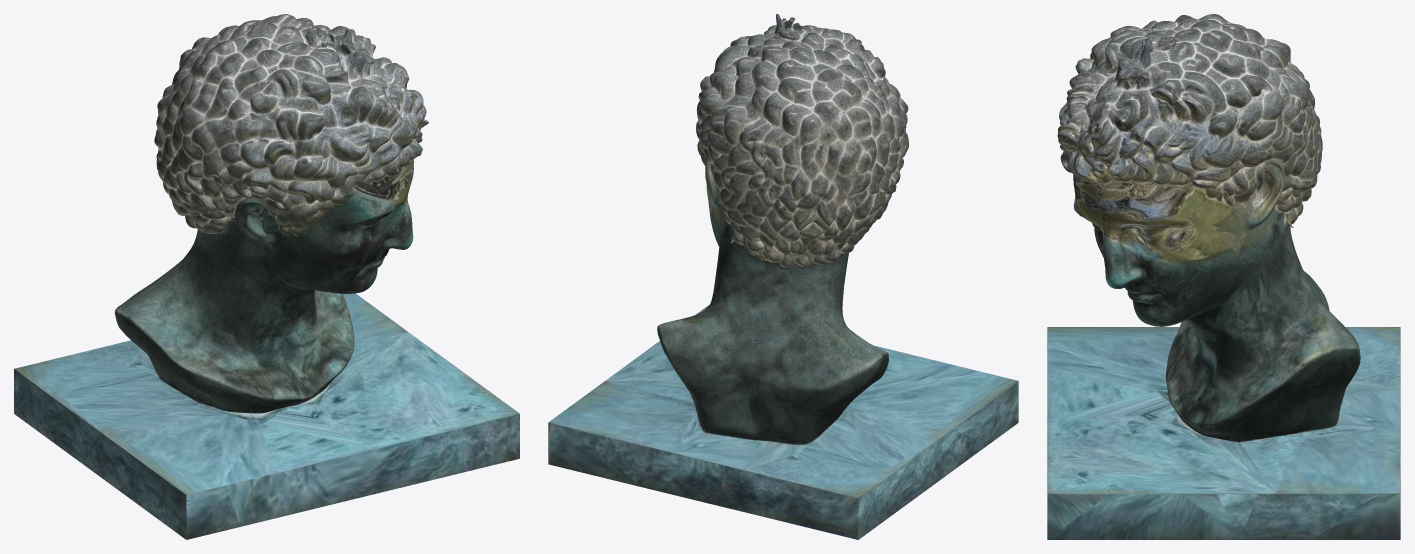
Rendered from arsham-bust.glb.
3 views of the same model, side by side, from view 1: azimuth 30°, elevation 25°; view 2: azimuth 150°, elevation 25°; view 3: azimuth 270°, elevation 25° (orthographic). The views are drawn at different scales.
Parts seen in each view (by area): view 1: Mesh_0; view 2: Mesh_0; view 3: Mesh_0.
Part boxes in pixels (bbox=[...]): Mesh_0: bbox=[14, 14, 519, 539]; Mesh_0: bbox=[548, 14, 1018, 539]; Mesh_0: bbox=[1047, 14, 1400, 539].
Size of the model in its own units: 2.4 by 2.91 by 2.15.
Materials: 1 (1 with a texture image).
